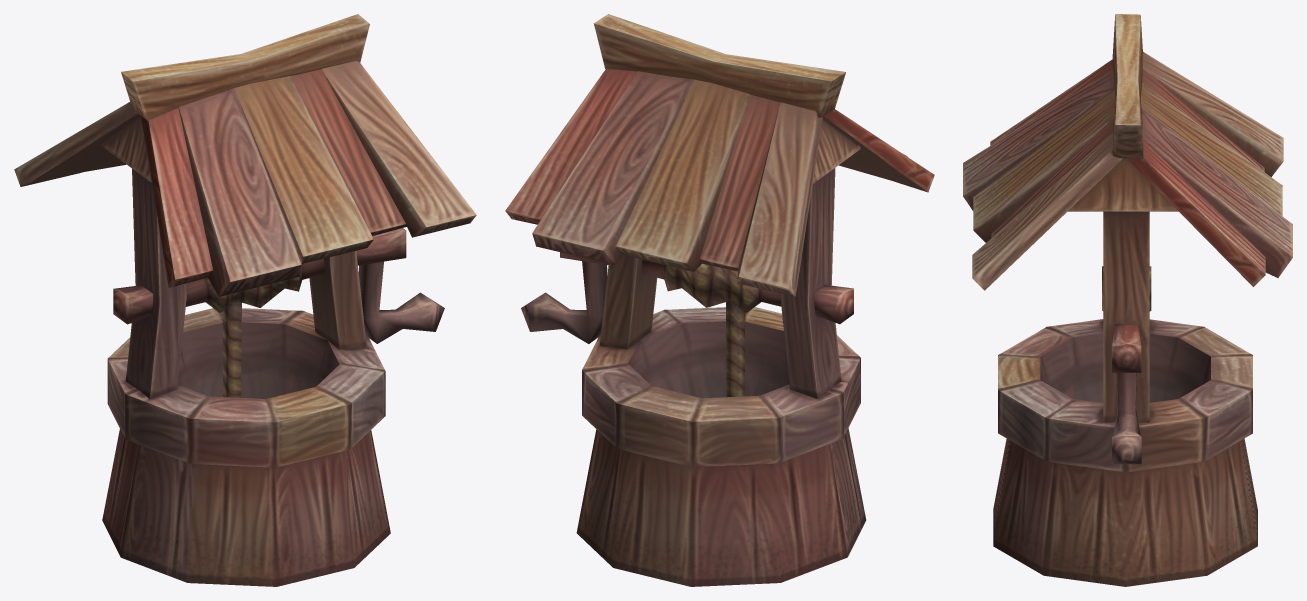
File: well_2.FBX
The picture shows the model from 3 angles, left to right: view 1: azimuth 30°, elevation 25°; view 2: azimuth 150°, elevation 25°; view 3: azimuth 270°, elevation 25°; orthographic projection. The views are drawn at different scales.
Parts seen in each view (by area): view 1: well_2; view 2: well_2; view 3: well_2.
Part boxes in pixels (bbox=[...]): well_2: bbox=[14, 14, 476, 586]; well_2: bbox=[505, 14, 934, 586]; well_2: bbox=[963, 14, 1292, 586].
Bounding box in the file's own units: 74.47 × 104 × 63.57.
1 material, 1 textured.
